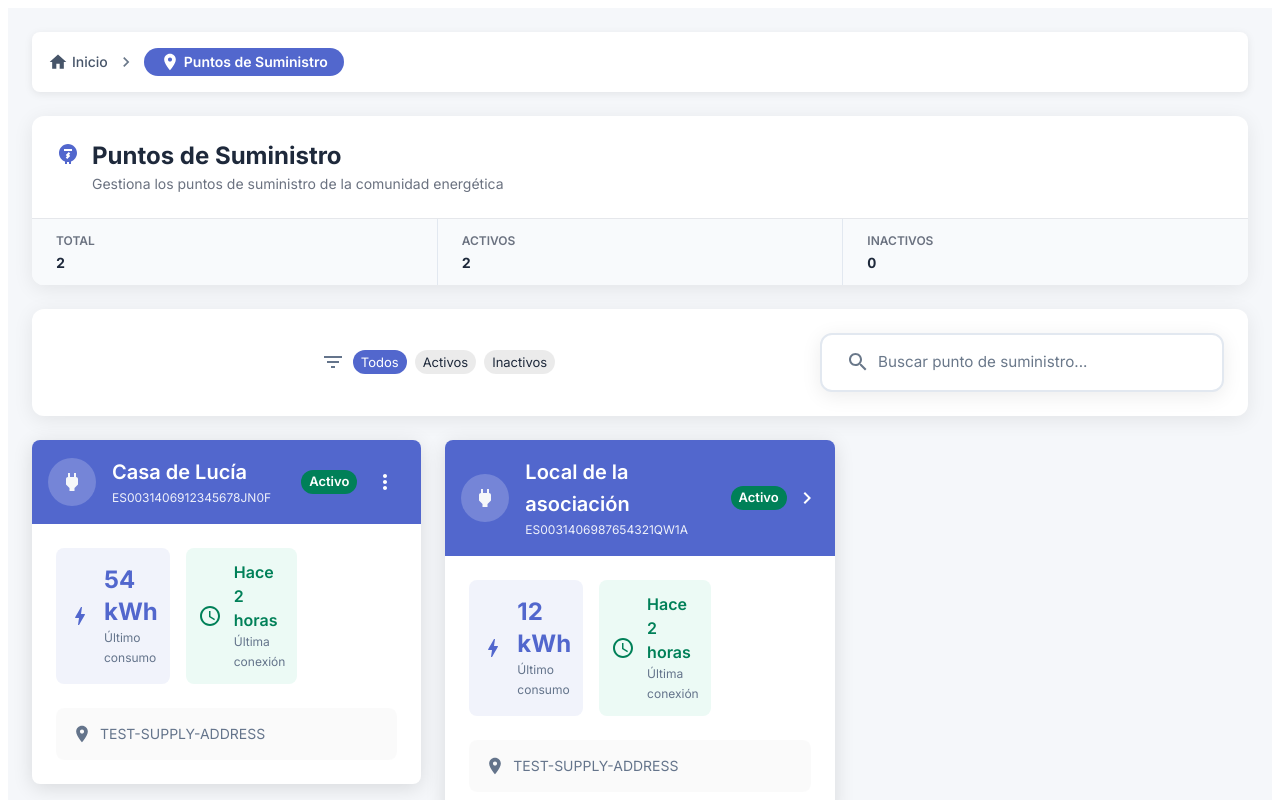
Scenario: deleting a supply from its card menu › UI-SUP-004 a 409 SUPPLY_HAS_PARTITION_COEFFICIENTS recommends «Deshabilitar», and the supply stays
The width and height of the screenshot is (1280, 800).
expect the heading "Casa de Lucía" is shown: met, box [112, 460, 247, 484]
Click the button named "Más acciones para Casa de Lucía" at (385, 482), box [365, 462, 405, 502]
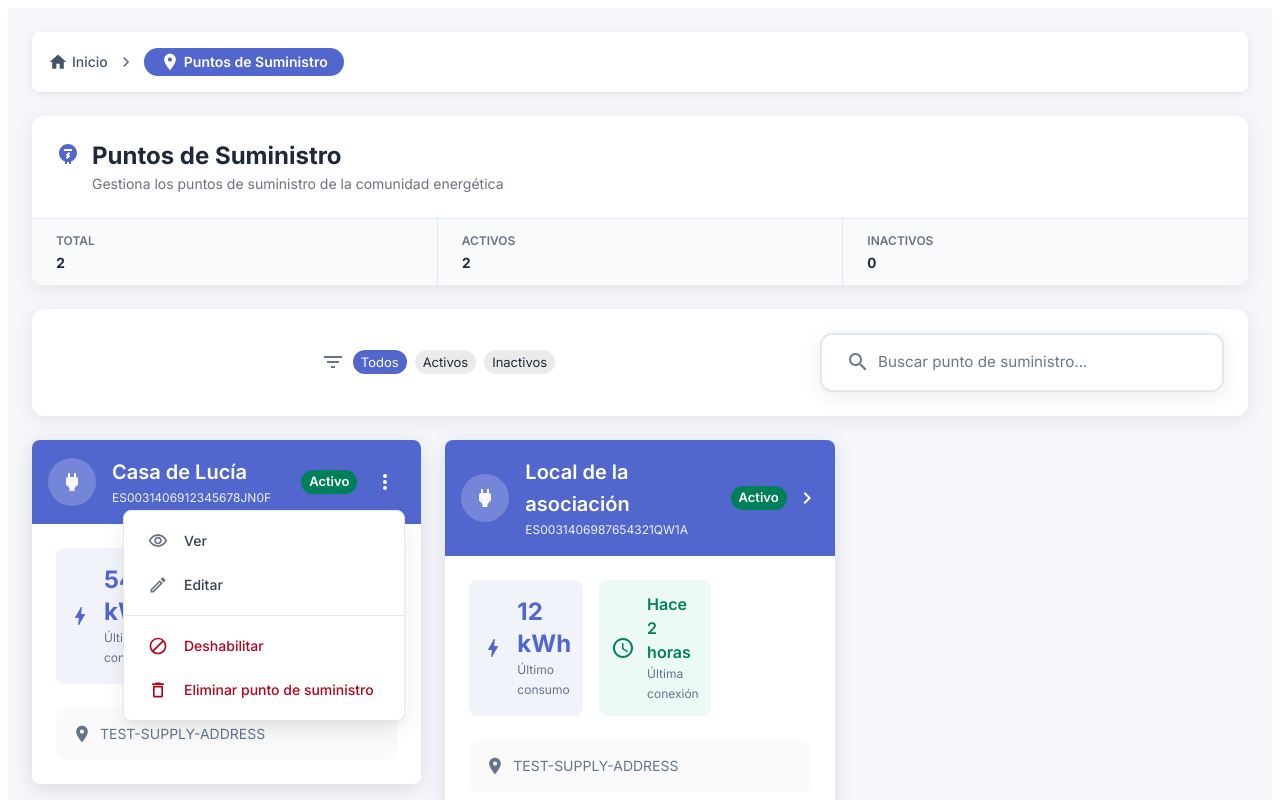
Click the menu item "Eliminar punto de suministro" at (261, 690), box [148, 680, 374, 700]
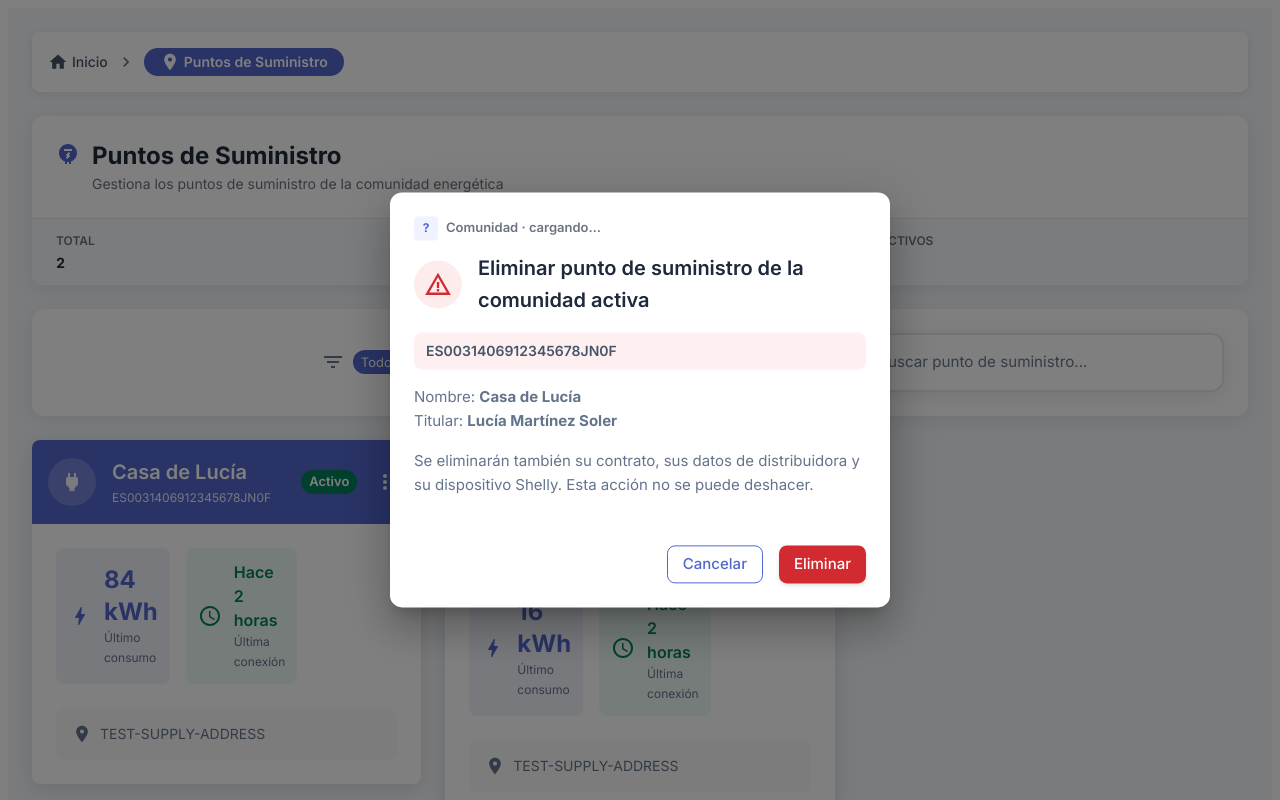
Click the button "Eliminar" at (822, 565), box [779, 545, 866, 584]
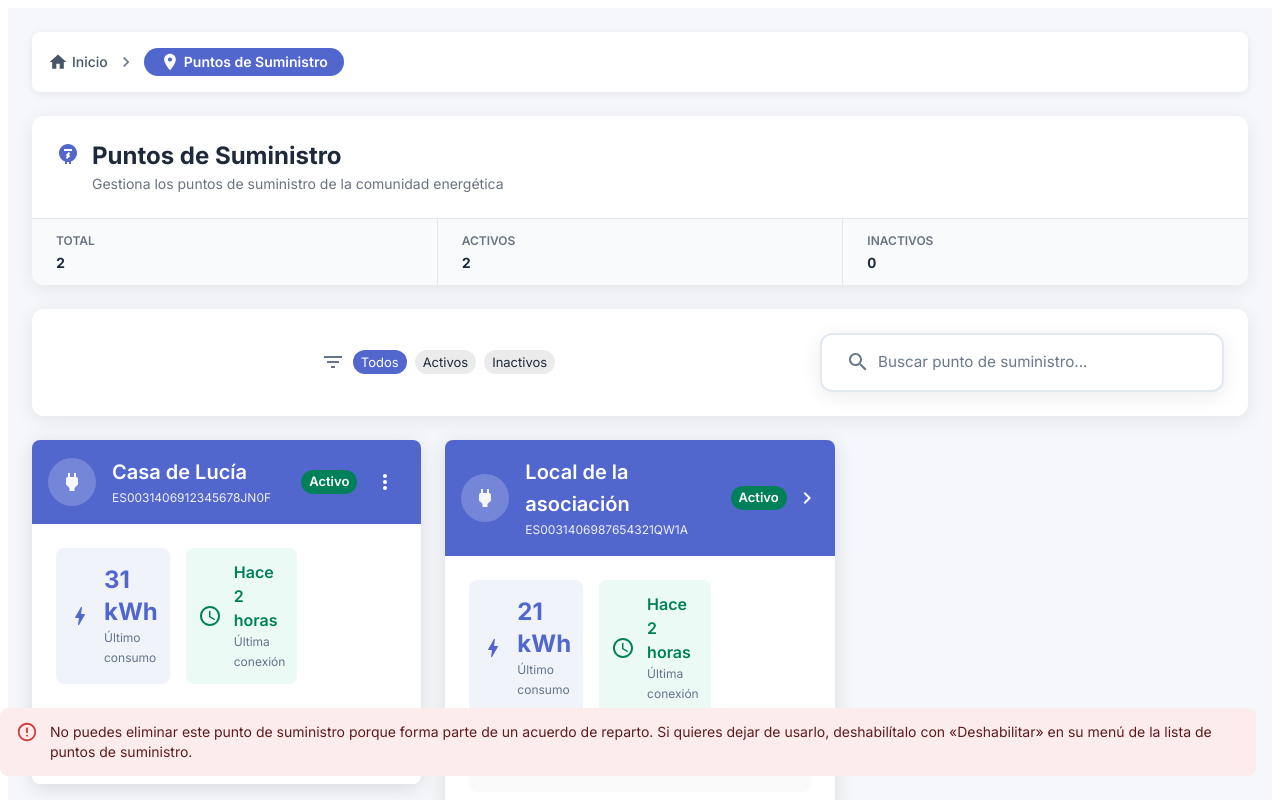
expect the heading "Casa de Lucía" is shown: met, box [112, 460, 247, 484]
expect the text "forma parte de un acuerdo de reparto" shows "Si quieres dejar de usarlo, deshabilítalo con «Deshabilitar»": met, box [50, 723, 1212, 760]
